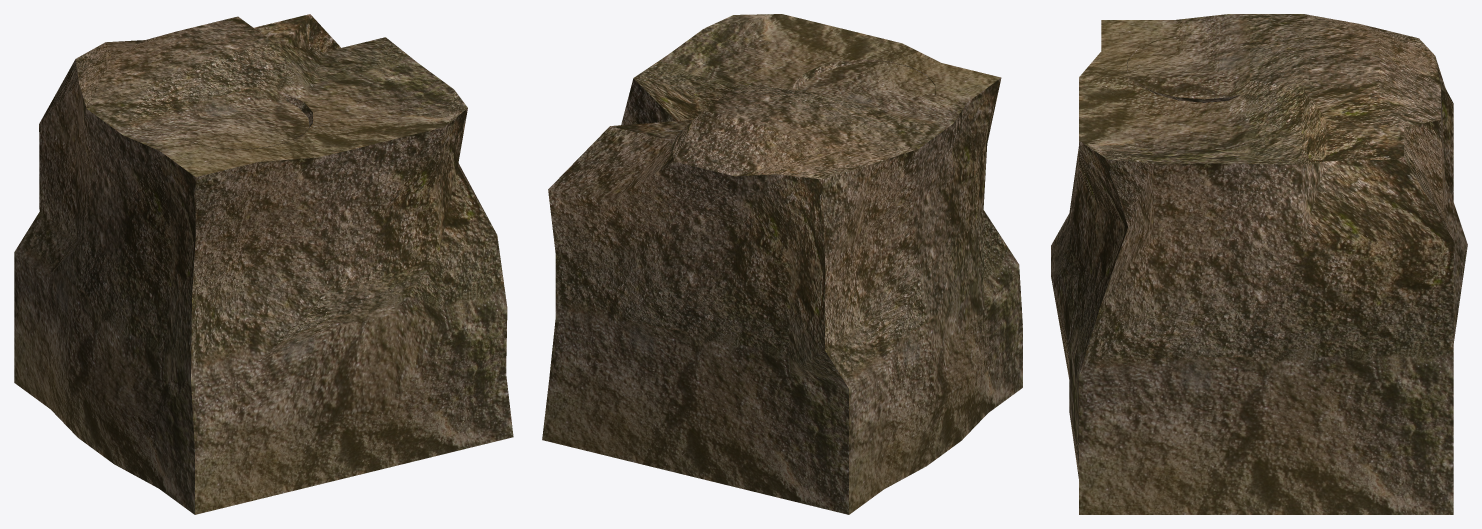
Rendered from cave_indoor_level.FBX.
The picture shows the model from 3 angles, left to right: view 1: azimuth 30°, elevation 25°; view 2: azimuth 150°, elevation 25°; view 3: azimuth 270°, elevation 25°; orthographic projection. The views are drawn at different scales.
Visible parts, largest first — view 1: Box002; view 2: Box002; view 3: Box002.
Boxes of the visible parts, box(x1,y1,x2,y2) form: Box002: box(14, 14, 513, 514); Box002: box(542, 14, 1022, 514); Box002: box(1051, 14, 1467, 514).
Bounding box in the file's own units: 164 × 167 × 159.
1 material, 1 textured.
